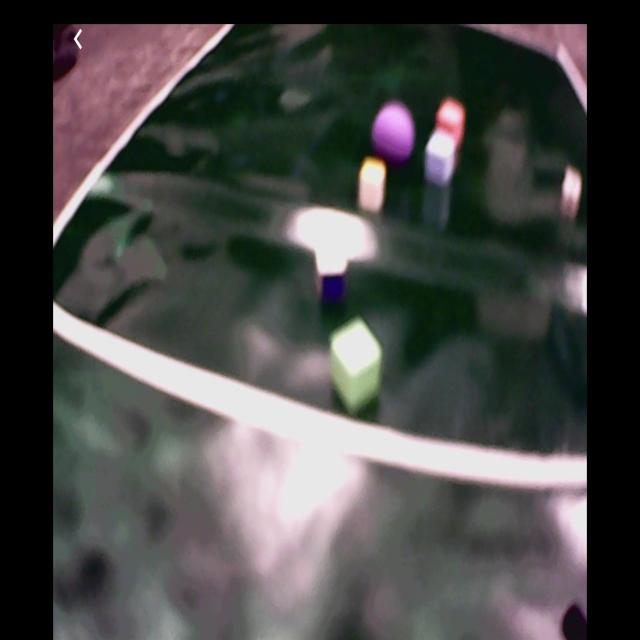ball: (375, 103, 415, 161)
